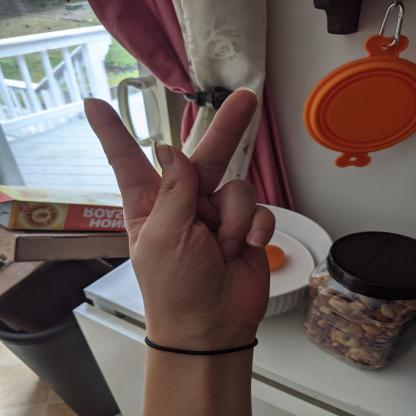K: (78, 85, 282, 336)
